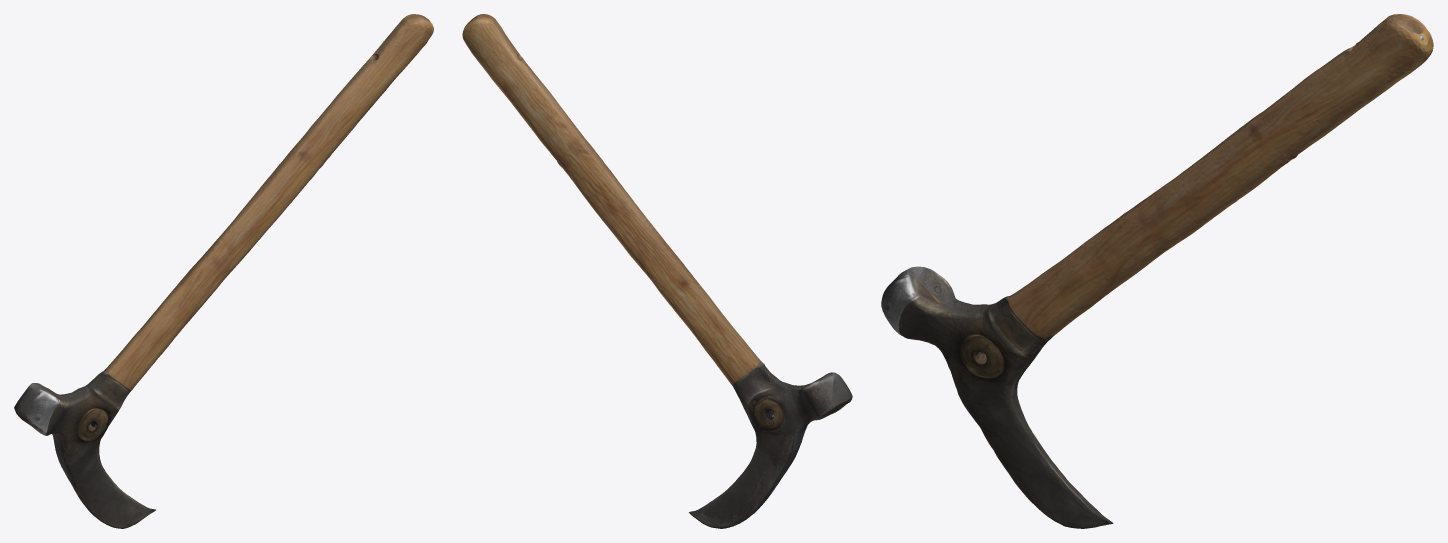
The model's file is pickaxe.obj.
The picture shows the model from 3 angles, left to right: view 1: azimuth 30°, elevation 25°; view 2: azimuth 150°, elevation 25°; view 3: azimuth 330°, elevation 25°; orthographic projection. The views are drawn at different scales.
Parts seen in each view (by area): view 1: pickaxe; view 2: pickaxe; view 3: pickaxe.
Part boxes in pixels (x1,y1,x2,y2): pickaxe: [14, 14, 433, 528]; pickaxe: [462, 14, 852, 528]; pickaxe: [881, 14, 1433, 528].
Size of the model in its own units: 1.86 by 2 by 0.2165.
1 material, 1 textured.
